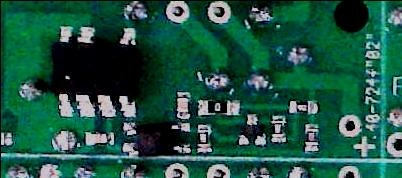chip-capacitor: (82, 128, 116, 148), (173, 88, 191, 120)
chip-resistor: (195, 98, 239, 117), (194, 121, 215, 152), (268, 113, 287, 144), (287, 98, 319, 116), (302, 123, 321, 153)
ic: (48, 21, 141, 118), (118, 120, 192, 155)
transistor: (235, 112, 268, 148)
